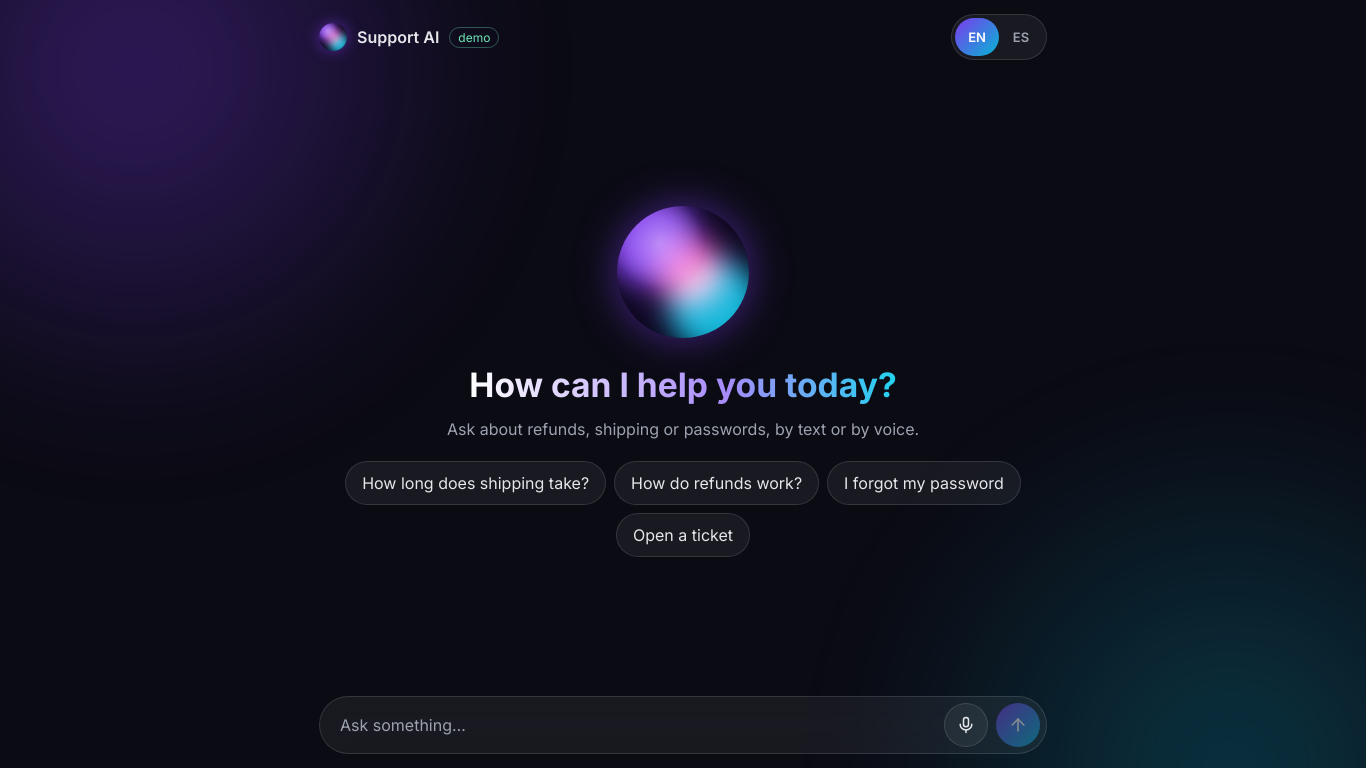
Test case: App › sends a suggestion and shows the streamed reply
Click the button "How long does shipping take?". click: [476, 482]
box: left=345, top=460, right=606, bottom=504
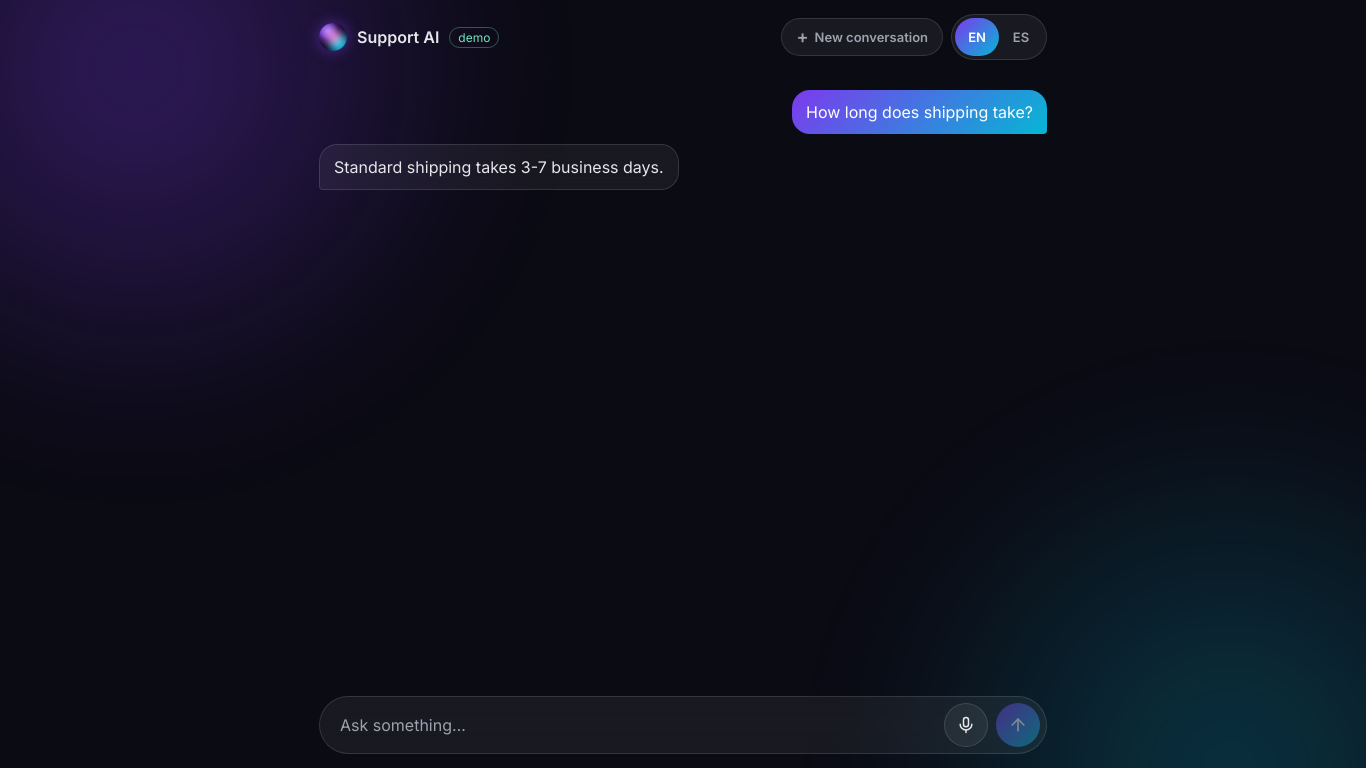
Now the list item "Standard shipping takes 3-7 business days." is shown, box left=319, top=144, right=679, bottom=190
Now the heading "How can I help you today?" is gone
